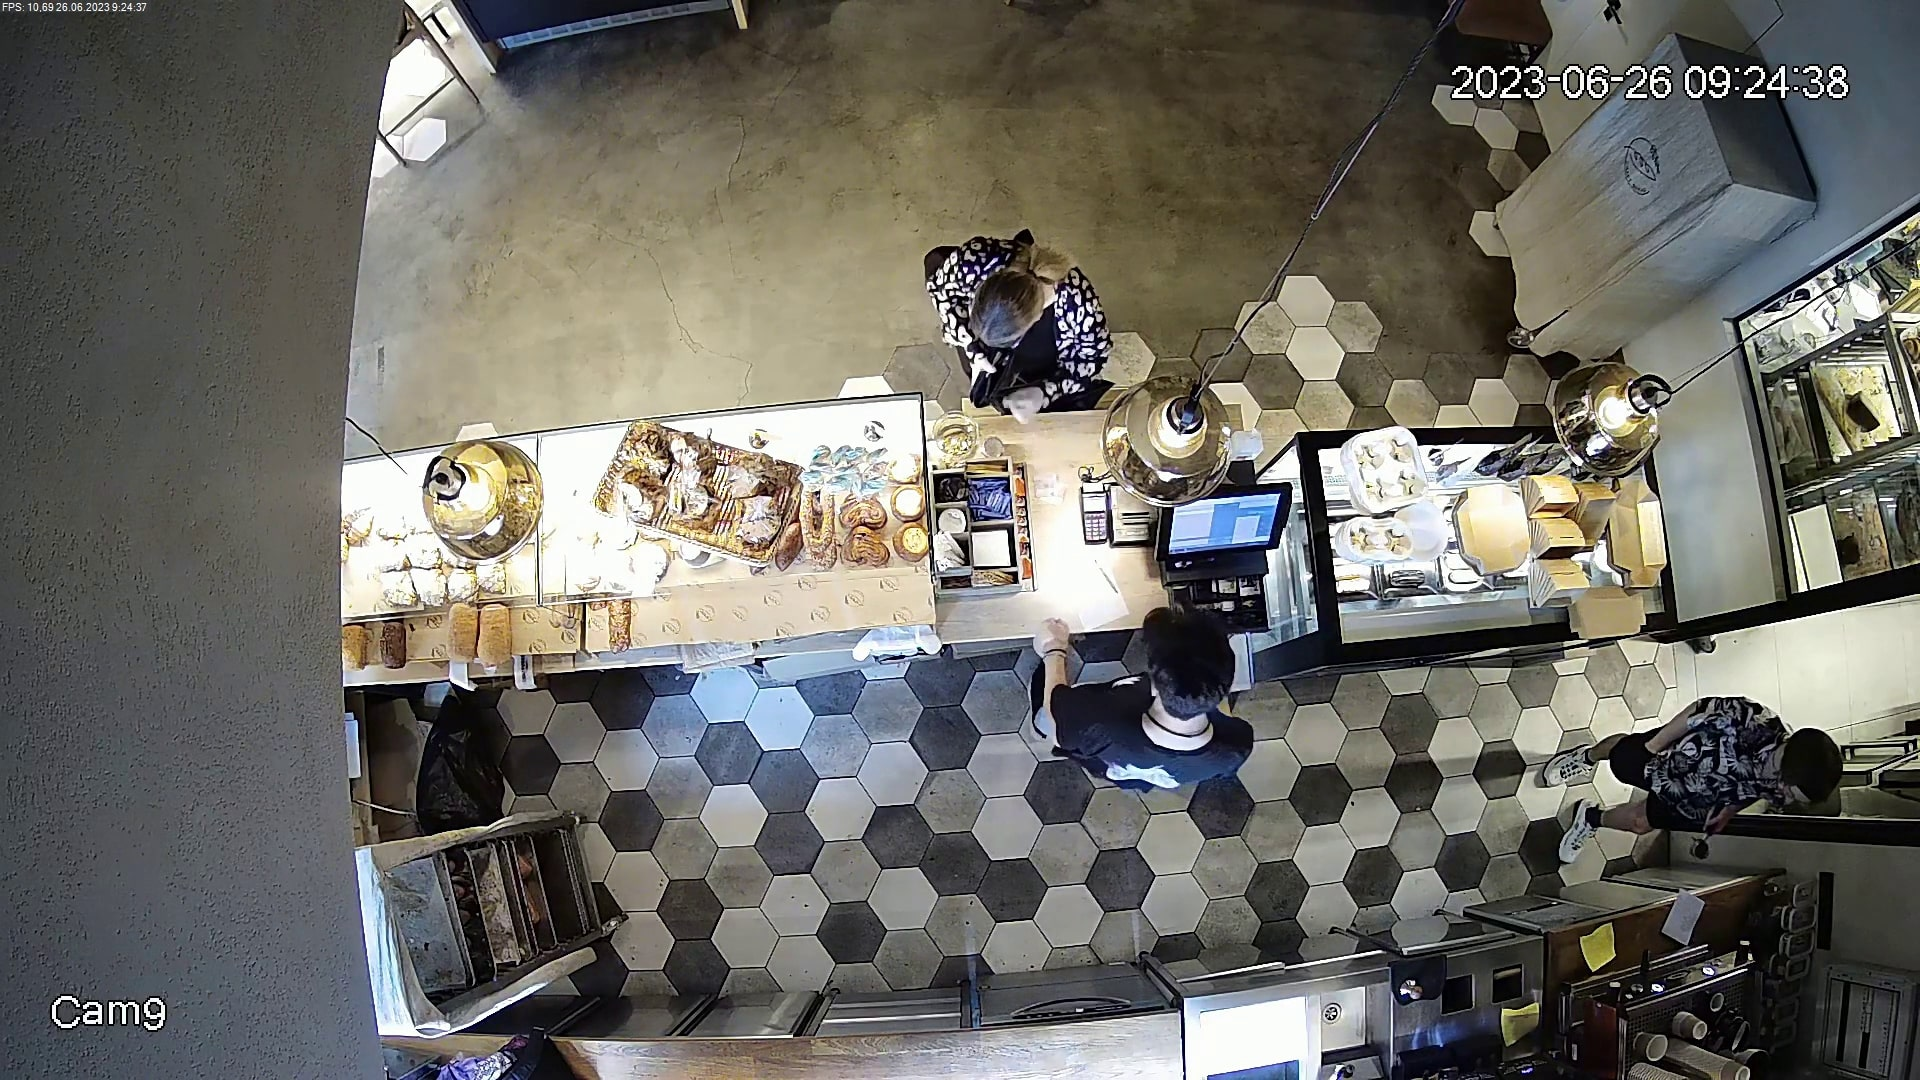barcounter: (353, 442, 1658, 651)
openedcash: (1145, 484, 1282, 631)
person: (1009, 628, 1274, 798), (916, 230, 1124, 405)
